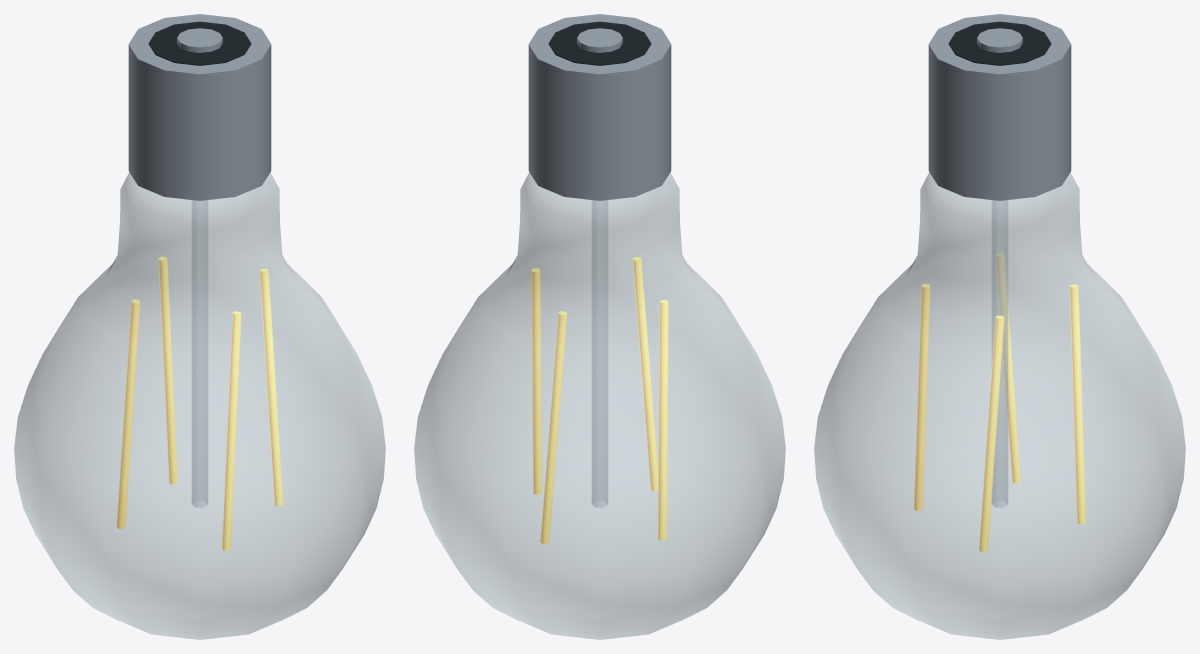
Rendered from source.glb.
3 views of the same model, side by side, from view 1: azimuth 30°, elevation 25°; view 2: azimuth 150°, elevation 25°; view 3: azimuth 270°, elevation 25° (orthographic).
Parts seen in each view (by area): view 1: 光学透明件, 机加工金属, Emitters, 密封及绝缘件; view 2: 光学透明件, 机加工金属, Emitters, 密封及绝缘件; view 3: 光学透明件, 机加工金属, Emitters, 密封及绝缘件.
Boxes of the visible parts, x1,y1,x2,y2 form: 光学透明件: (14, 172, 385, 639); 机加工金属: (128, 14, 271, 200); Emitters: (116, 256, 283, 550); 密封及绝缘件: (148, 21, 251, 65); 光学透明件: (414, 172, 785, 639); 机加工金属: (528, 14, 671, 200); Emitters: (531, 257, 668, 544); 密封及绝缘件: (548, 21, 651, 65); 光学透明件: (814, 172, 1185, 639); 机加工金属: (928, 14, 1071, 200); Emitters: (913, 253, 1086, 552); 密封及绝缘件: (948, 21, 1051, 65).
Bounding box in the file's own units: 0.0703 × 0.1213 × 0.0703.
